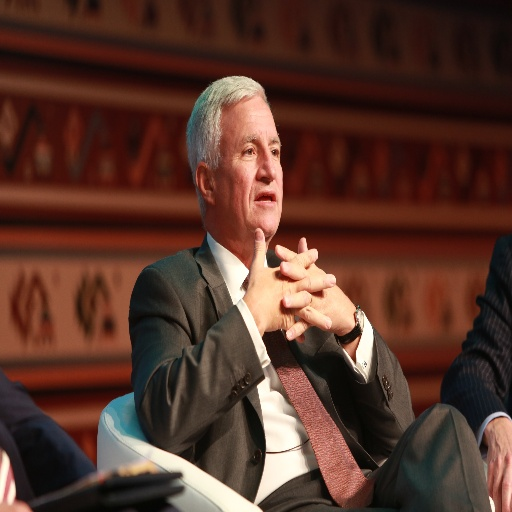hand: (244, 226, 336, 333), (273, 236, 356, 344), (484, 419, 511, 511), (0, 499, 31, 511)
